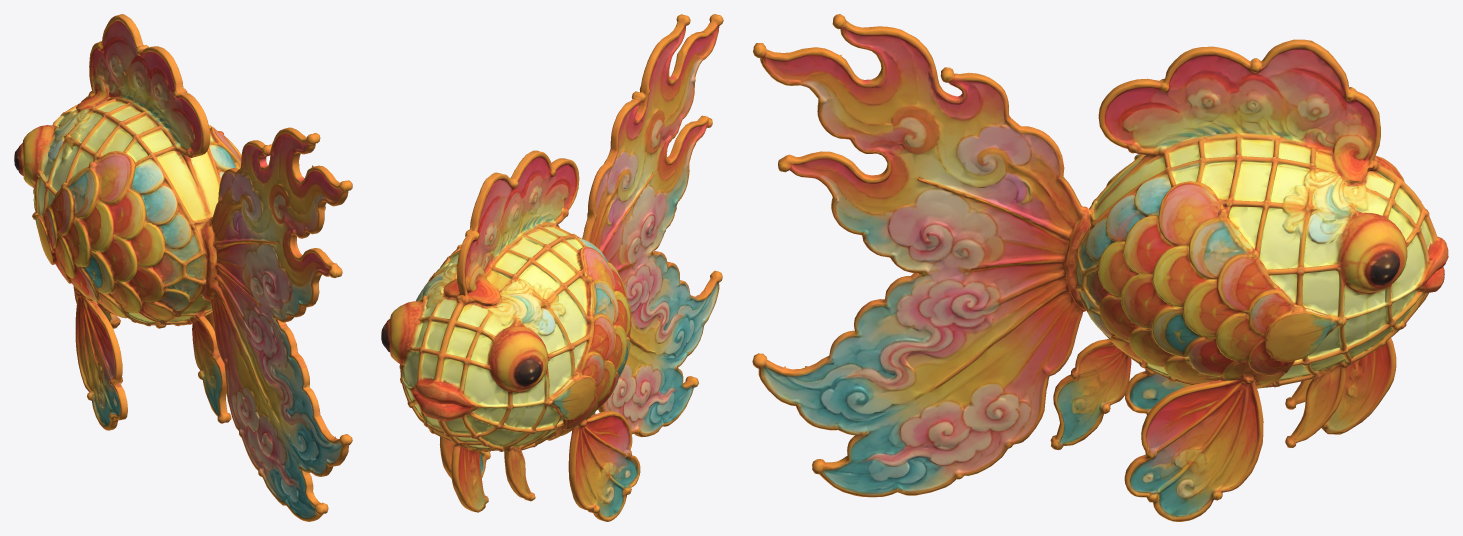
Rendered from 狮子头鱼鱼灯50000.glb.
3 views of the same model, side by side, from view 1: azimuth 30°, elevation 25°; view 2: azimuth 150°, elevation 25°; view 3: azimuth 270°, elevation 25° (orthographic). The views are drawn at different scales.
Parts seen in each view (by area): view 1: tripo_node_b502e2b3-ba01-4d17-be4e-edbf272dd1f1; view 2: tripo_node_b502e2b3-ba01-4d17-be4e-edbf272dd1f1; view 3: tripo_node_b502e2b3-ba01-4d17-be4e-edbf272dd1f1.
Part boxes in pixels (left/top/right/bottom): tripo_node_b502e2b3-ba01-4d17-be4e-edbf272dd1f1: left=14, top=14, right=352, bottom=521; tripo_node_b502e2b3-ba01-4d17-be4e-edbf272dd1f1: left=381, top=14, right=723, bottom=521; tripo_node_b502e2b3-ba01-4d17-be4e-edbf272dd1f1: left=752, top=14, right=1448, bottom=521.
Bounding box in the file's own units: 0.3673 × 0.7624 × 1.
Materials: 1 (1 with a texture image).
